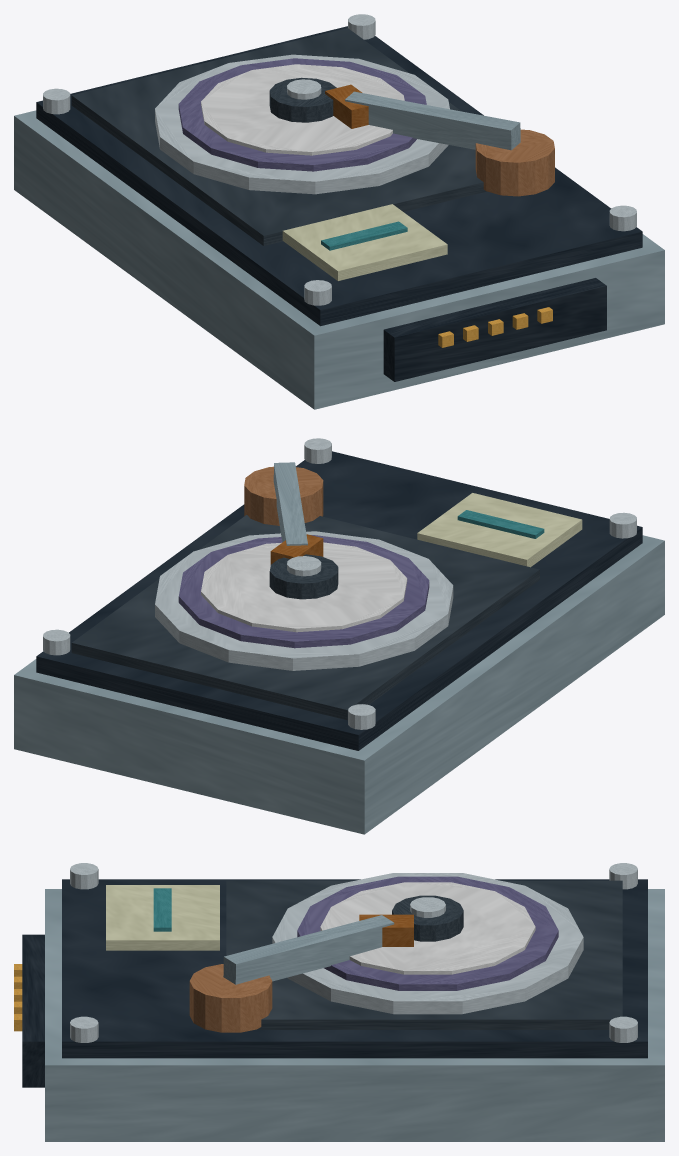
Rendered from Disco_Duro_Datos.fbx.
3 renders of one model, top to bottom at view 1: azimuth 30°, elevation 25°; view 2: azimuth 150°, elevation 25°; view 3: azimuth 270°, elevation 25°, orthographic. The views are drawn at different scales.
Parts seen in each view (by area): view 1: Disco_Duro_Datos; view 2: Disco_Duro_Datos; view 3: Disco_Duro_Datos.
Part boxes in pixels (box(x1,y1,x2,y2)): Disco_Duro_Datos: box(14, 14, 664, 409); Disco_Duro_Datos: box(14, 438, 664, 834); Disco_Duro_Datos: box(14, 863, 664, 1141).
Size of the model in its own units: 0.7184 by 1.12 by 0.2873.
1 material, 1 textured.
